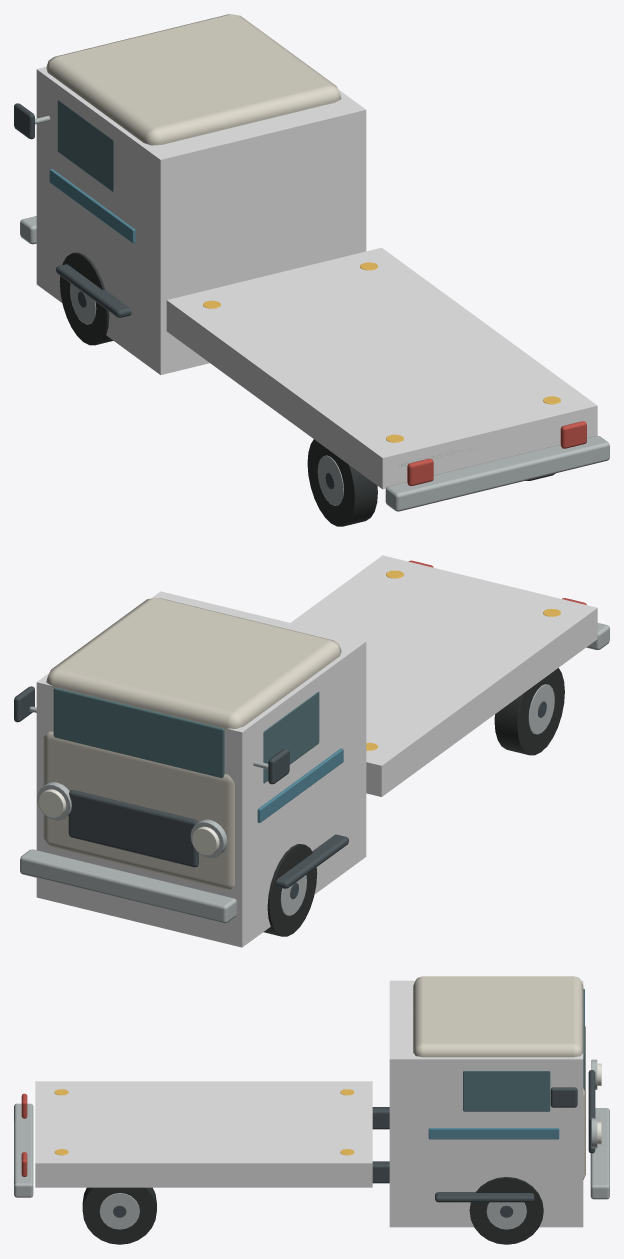
File: Vehicle_ServiceTruck.fbx
The picture shows the model from 3 angles, top to bottom: view 1: azimuth 30°, elevation 25°; view 2: azimuth 150°, elevation 25°; view 3: azimuth 270°, elevation 25°; orthographic projection. The views are drawn at different scales.
Parts seen in each view (by area): view 1: COL_Deck, COL_Cab, Cab roof, Rear bumper, Wheel rubber, Cab side glazing, Wheel rubber.001, Cab door blue service stripe, Step board, Wheel hub; view 2: COL_Deck, COL_Cab, Cab roof, Cab lower body, Cab windshield, Front grille, Front bumper, Wheel rubber, Cab side glazing, Wheel rubber.001, Cab door blue service stripe, Step board (+7 smaller); view 3: COL_Deck, COL_Cab, Cab roof, Cab side glazing.001, Wheel rubber.002, Wheel rubber.003, Rear bumper, Cab door blue service stripe.001, Front bumper, Wheel hub.002, Step board.001, Wheel hub.003 (+4 smaller).
Part boxes in pixels (box(x1,y1,x2,y2)): COL_Deck: box(166, 247, 597, 489); COL_Cab: box(36, 67, 366, 374); Cab roof: box(46, 14, 341, 145); Rear bumper: box(385, 435, 609, 511); Wheel rubber: box(307, 439, 377, 526); Cab side glazing: box(57, 100, 113, 191); Wheel rubber.001: box(59, 252, 113, 345); Cab door blue service stripe: box(49, 169, 135, 243); Step board: box(56, 264, 131, 317); Wheel hub: box(317, 455, 343, 505); COL_Deck: box(291, 555, 597, 796); COL_Cab: box(36, 591, 366, 947); Cab roof: box(46, 597, 341, 729); Cab lower body: box(43, 731, 234, 890); Cab windshield: box(53, 687, 224, 777); Front grille: box(68, 790, 198, 867); Front bumper: box(20, 849, 236, 923); Wheel rubber: box(494, 668, 564, 755); Cab side glazing: box(263, 691, 319, 783); Wheel rubber.001: box(263, 844, 317, 936); Cab door blue service stripe: box(257, 748, 343, 822); Step board: box(276, 834, 348, 888); COL_Deck: box(35, 1081, 372, 1187); COL_Cab: box(389, 980, 583, 1227); Cab roof: box(413, 976, 583, 1057); Cab side glazing.001: box(463, 1071, 550, 1111); Wheel rubber.002: box(82, 1187, 156, 1244); Wheel rubber.003: box(469, 1177, 543, 1244); Rear bumper: box(14, 1103, 33, 1197); Cab door blue service stripe.001: box(428, 1128, 559, 1139); Front bumper: box(590, 1108, 609, 1199); Wheel hub.002: box(99, 1193, 139, 1229); Step board.001: box(435, 1192, 534, 1202); Wheel hub.003: box(486, 1202, 526, 1229).
Bounding box in the file's own units: 2.79 × 2.56 × 7.07.
